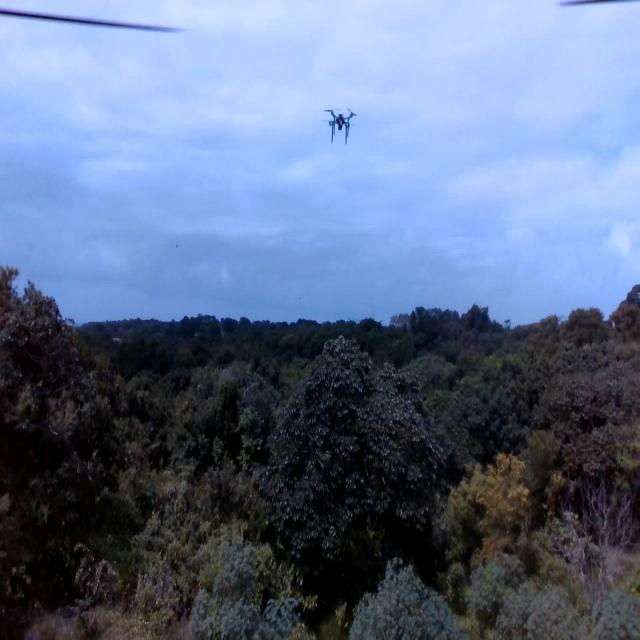-uav-: (318, 98, 362, 150)
